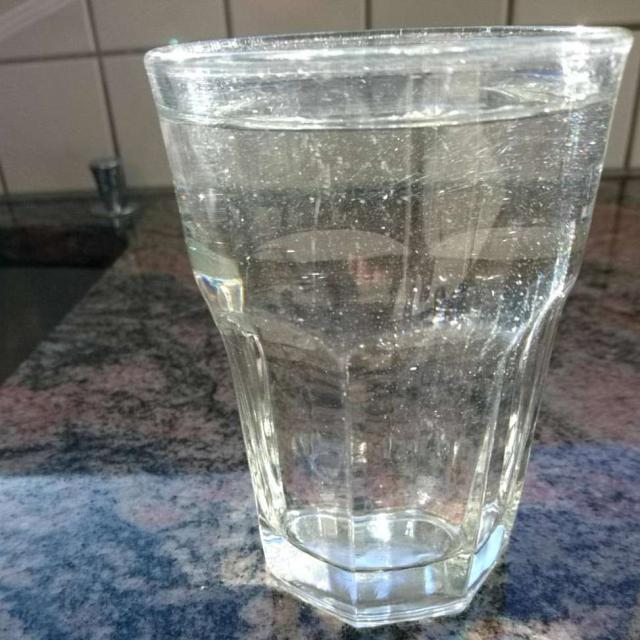water: (154, 34, 626, 571)
